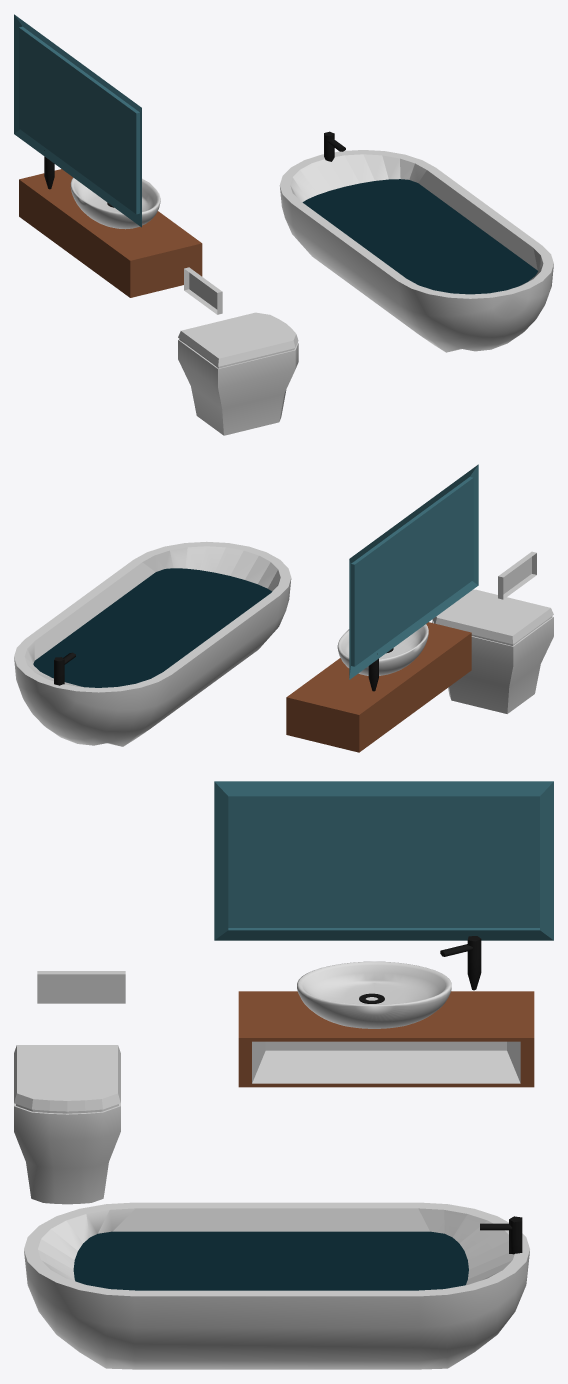
File: Bannio.fbx
3 renders of one model, top to bottom at view 1: azimuth 30°, elevation 25°; view 2: azimuth 150°, elevation 25°; view 3: azimuth 270°, elevation 25°, orthographic. The views are drawn at different scales.
Parts seen in each view (by area): view 1: Box001; view 2: Box001; view 3: Box001.
Part boxes in pixels (x1=…): Box001: x1=14, y1=14, x2=553, y2=435; Box001: x1=14, y1=464, x2=553, y2=752; Box001: x1=14, y1=781, x2=553, y2=1369.
Bounding box in the file's own units: 41.23 × 29.63 × 38.88.
